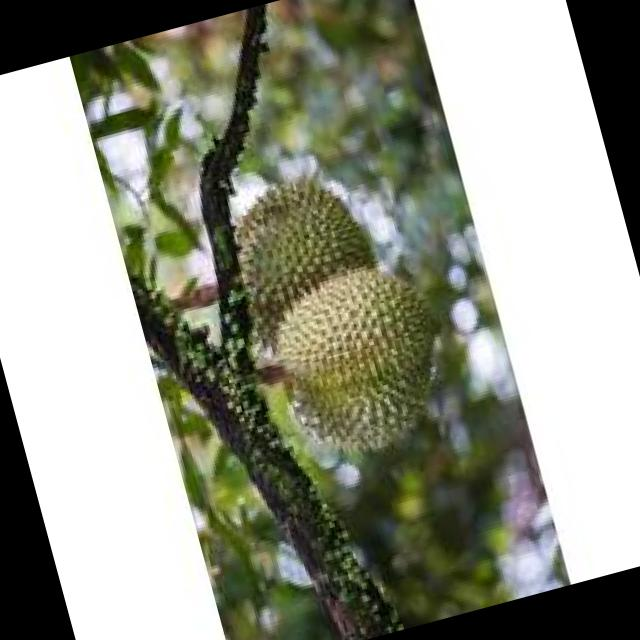fruit: (234, 236, 486, 491), (196, 145, 396, 339)
